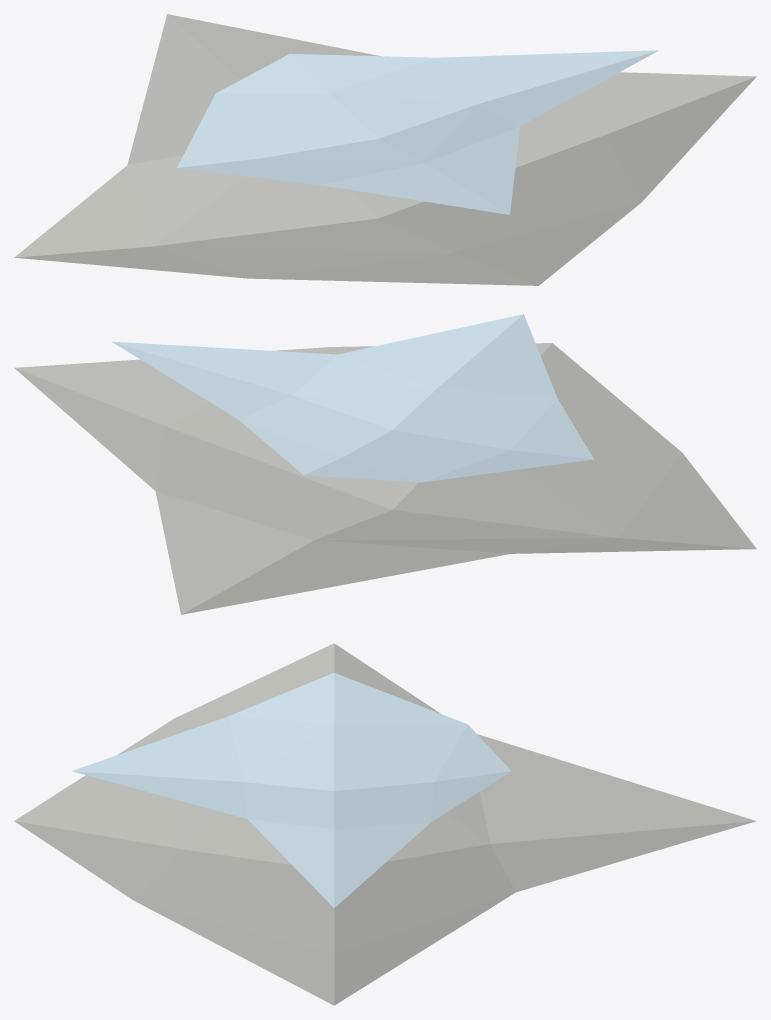
The model's file is puddle_stone_v07.glb.
The picture shows the model from 3 angles, top to bottom: view 1: azimuth 30°, elevation 25°; view 2: azimuth 150°, elevation 25°; view 3: azimuth 270°, elevation 25°; orthographic projection.
Visible parts, largest first — view 1: lod0; view 2: lod0; view 3: lod0.
Boxes of the visible parts, x1,y1,x2,y2 form: lod0: (14, 14, 756, 285); lod0: (14, 314, 756, 614); lod0: (14, 643, 756, 1005).
Size of what is drawn, in the model's own units: 1.09 by 0.1736 by 0.9439.
